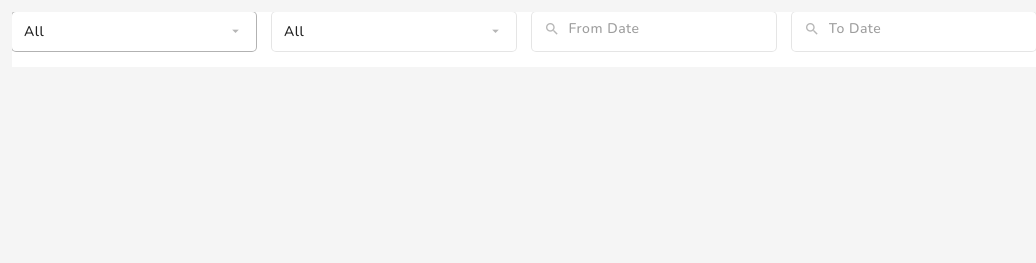
Test case: ReportFilters › type select shows "All" plus the 4 type labels
The width and height of the screenshot is (1036, 263).
Click the button with aria-label "Type".
click(134, 32)  # box [12,12,256,51]
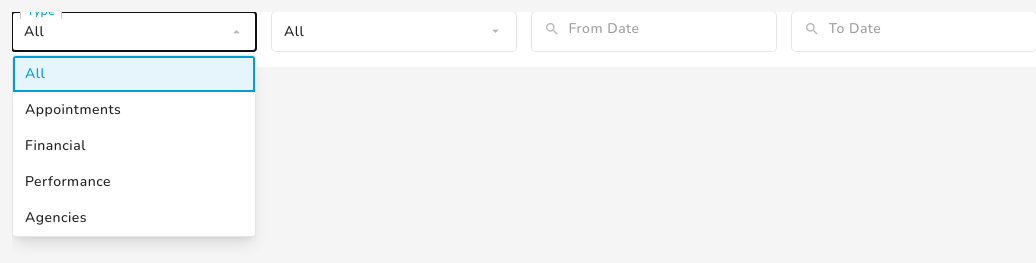
expect the list named "Type" shows "All": met, box [25,64,45,83]
expect the option "Appointments" is shown: met, box [25,100,121,119]
expect the option "Financial" is shown: met, box [25,136,86,155]
